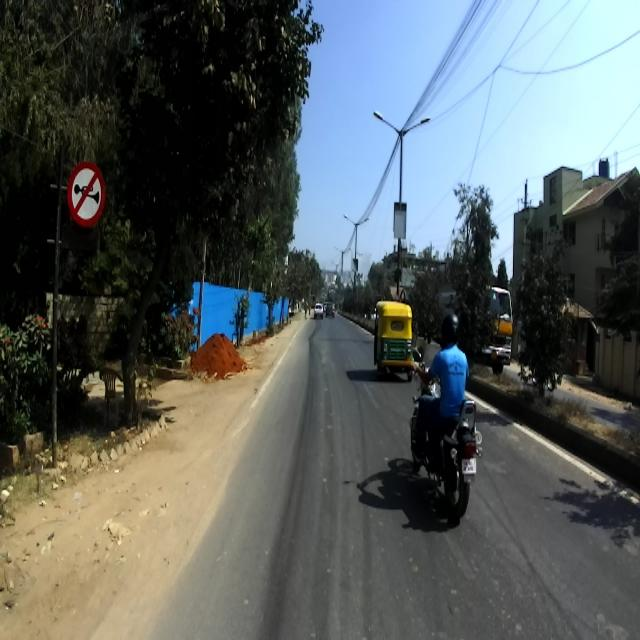motorcycle: (409, 347, 483, 518)
